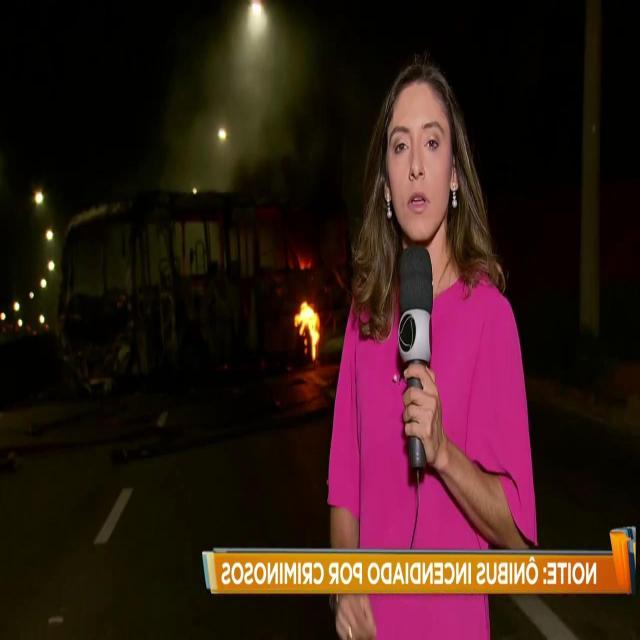Fire: (292, 293, 326, 361)
